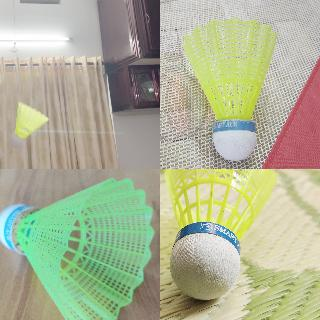shuttlecock: (0, 177, 156, 319), (163, 169, 279, 300), (182, 17, 278, 161), (10, 102, 48, 146)
